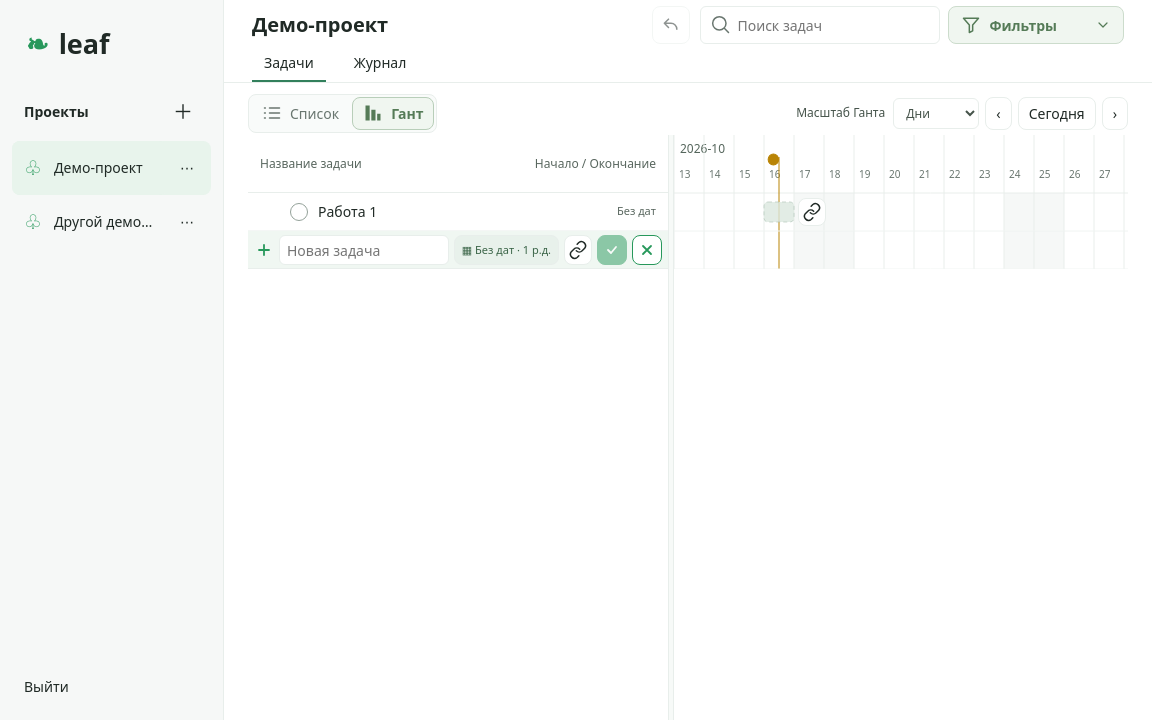
keeps uncertain draft and makes the existing retry available inside the modal
The image size is (1152, 720).
Expected: the heading "Демо-проект" is shown, [252,11,388,38]
Click the button named "Действия проекта": (187, 168) [167,149,207,186]
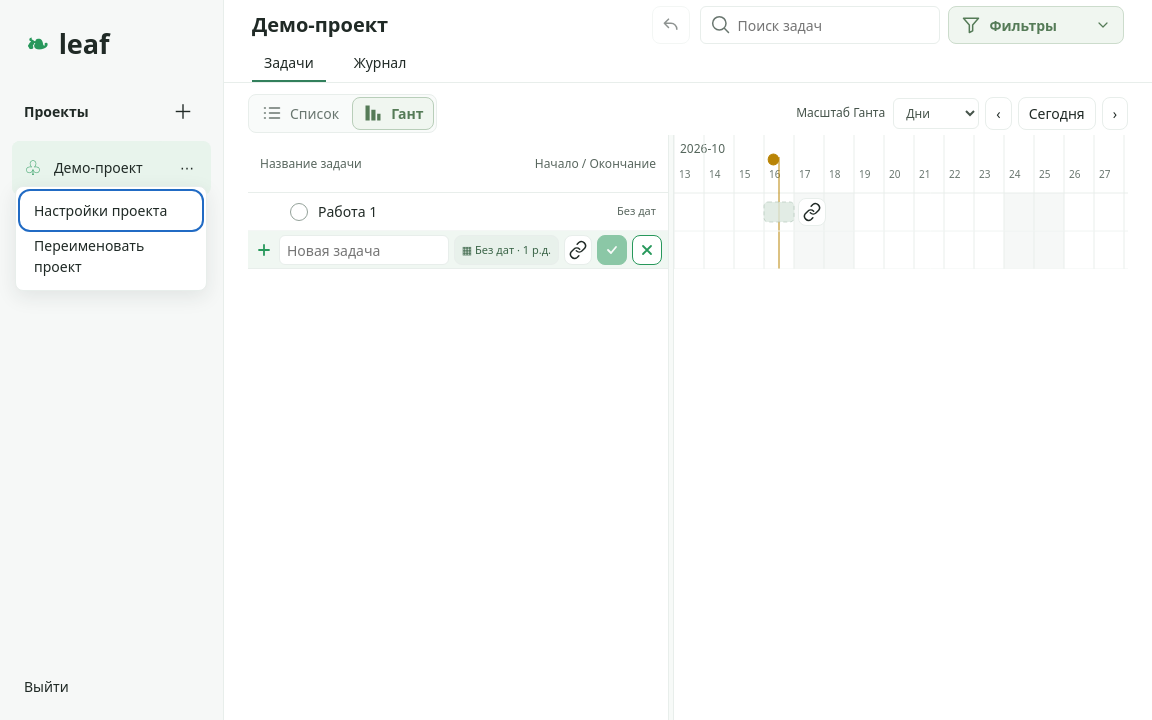
Click the button "Настройки проекта": (111, 210) [22,193,200,228]
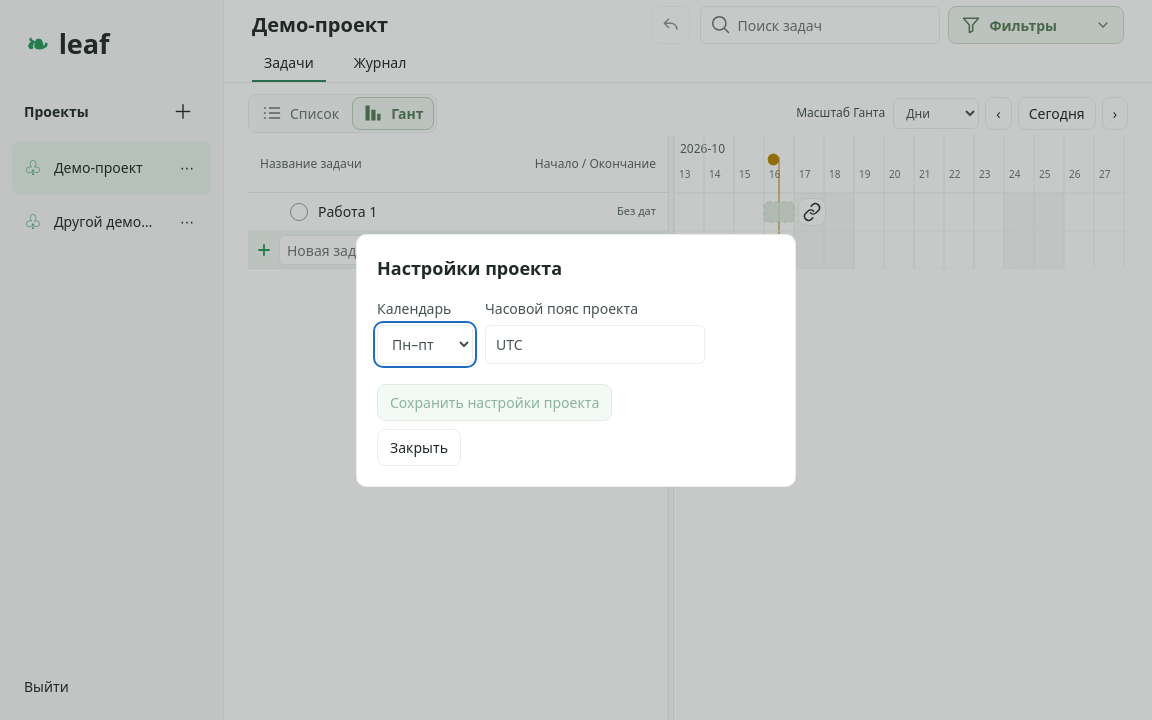
Clear the field labelled "Часовой пояс проекта": (595, 344) [485,324,705,364]
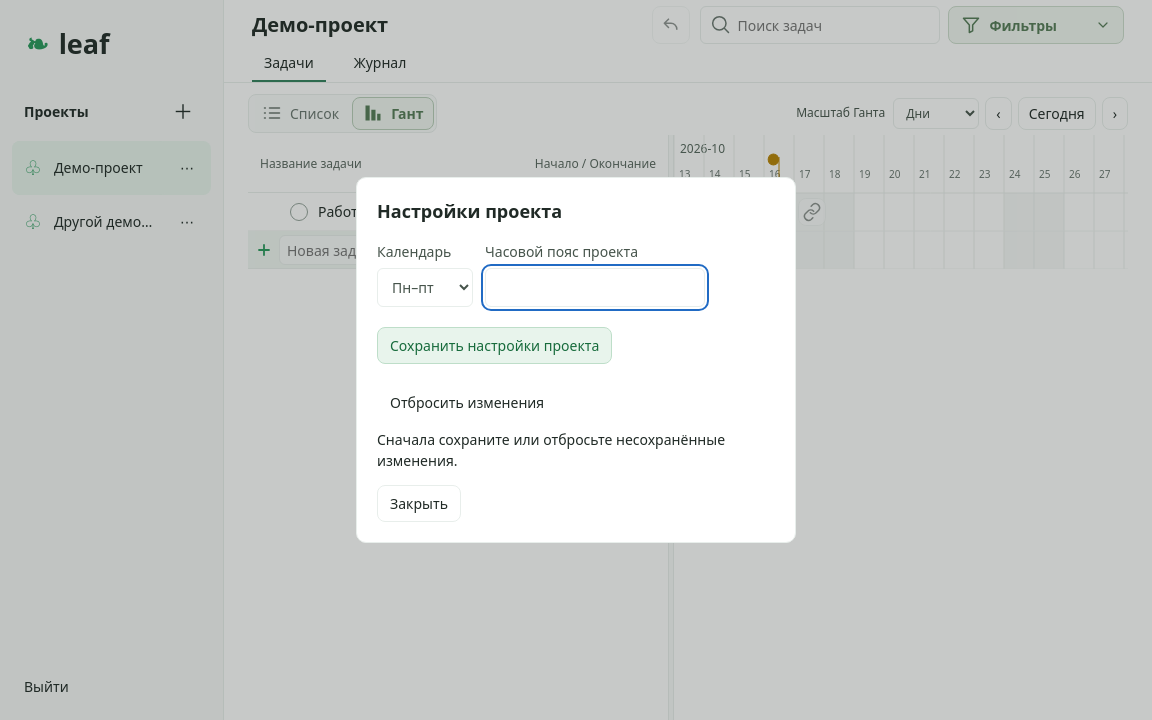
In the field labelled "Часовой пояс проекта": (595, 288) [485,268,705,307], type "Europe/Moscow"
Click the button "Сохранить настройки проекта": (495, 346) [377,327,612,364]
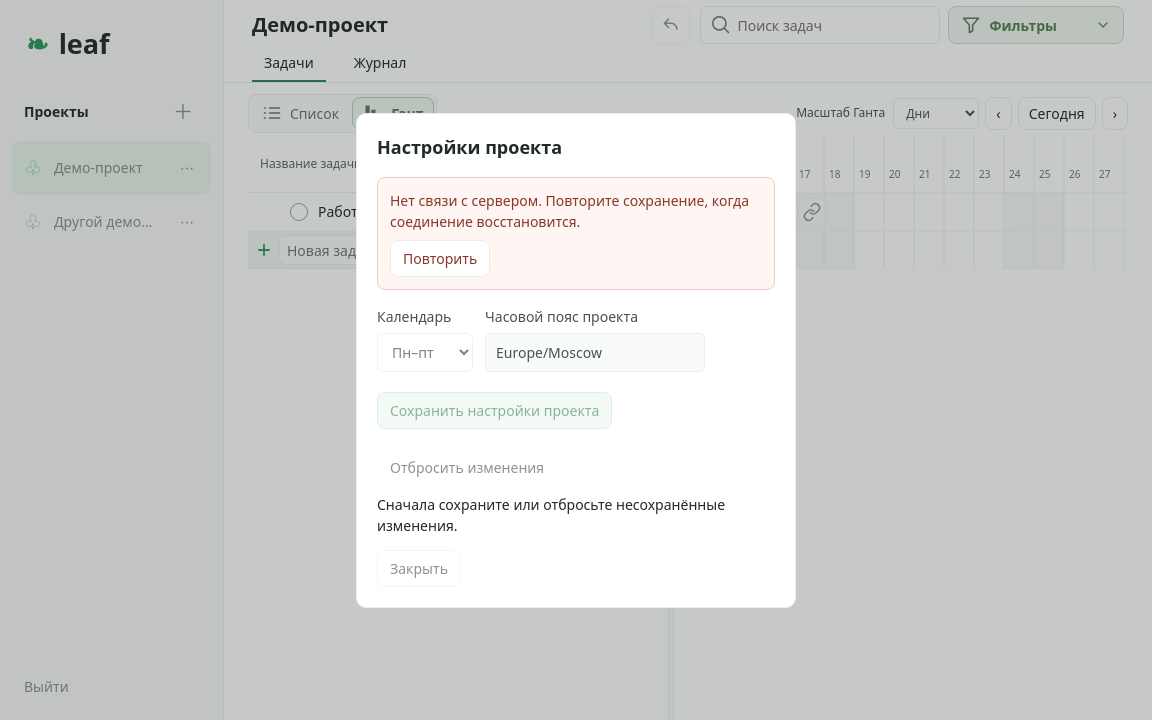
Expected: the text "Нет связи с сервером" is shown, [390,190,749,230]
Expected: the button "Повторить" is enabled, [390,240,490,276]
Press Escape
Click the button "Повторить": (440, 258) [390,240,490,276]
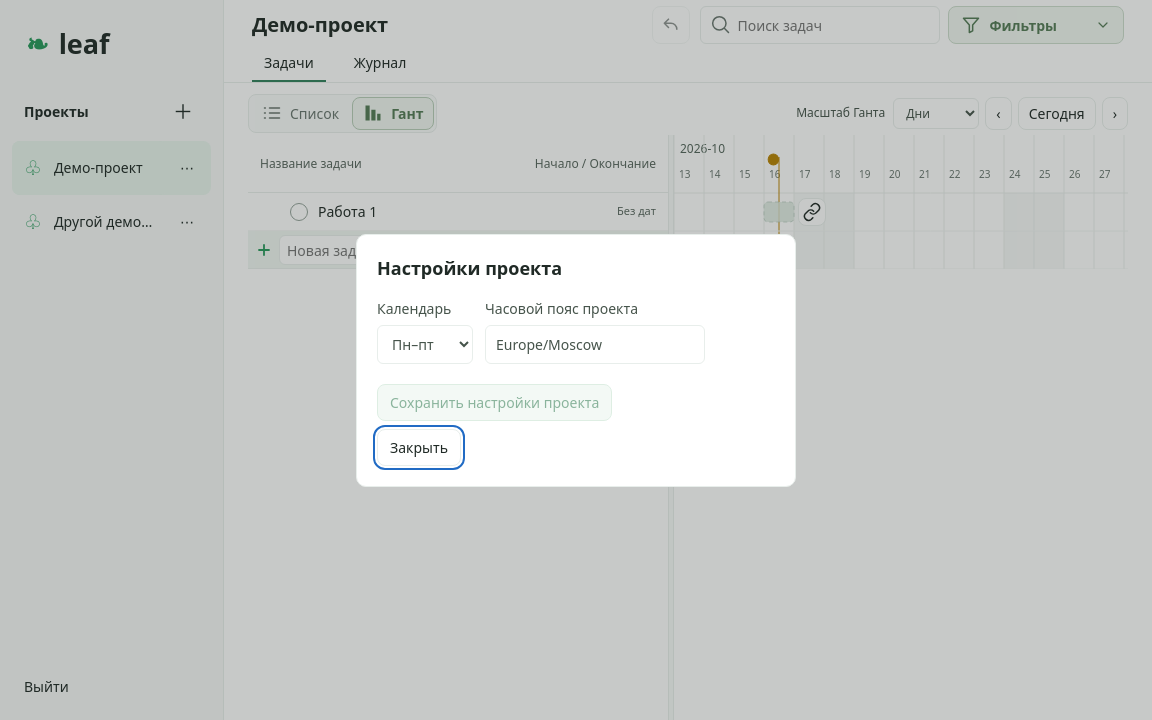
Expected: the button "Закрыть" is enabled, [377,428,461,466]
Expected: the button "Сохранить настройки проекта" is disabled, [377,384,612,420]
Press Escape
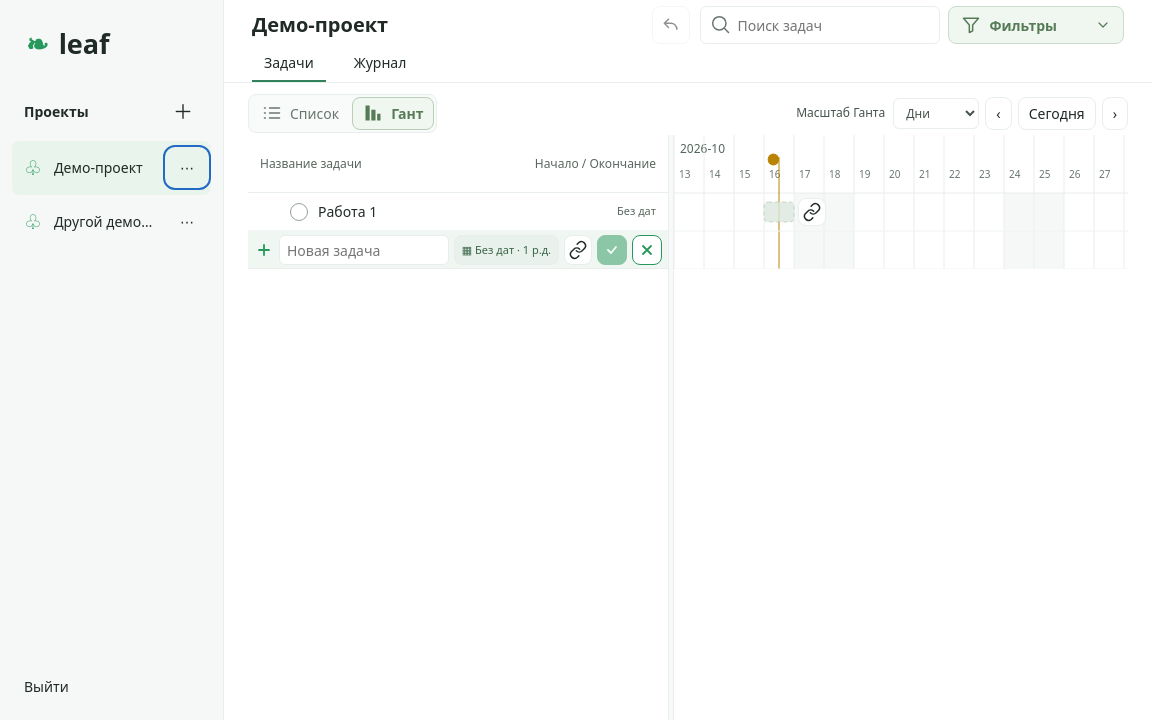
Expected: the dialog is gone
